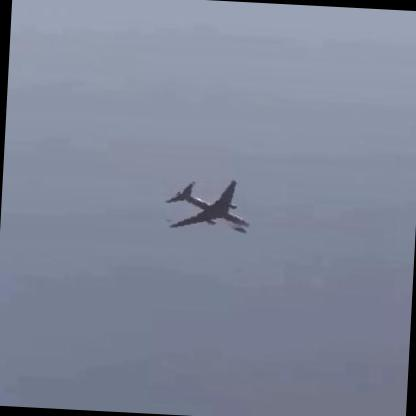plane: (162, 176, 249, 236)
